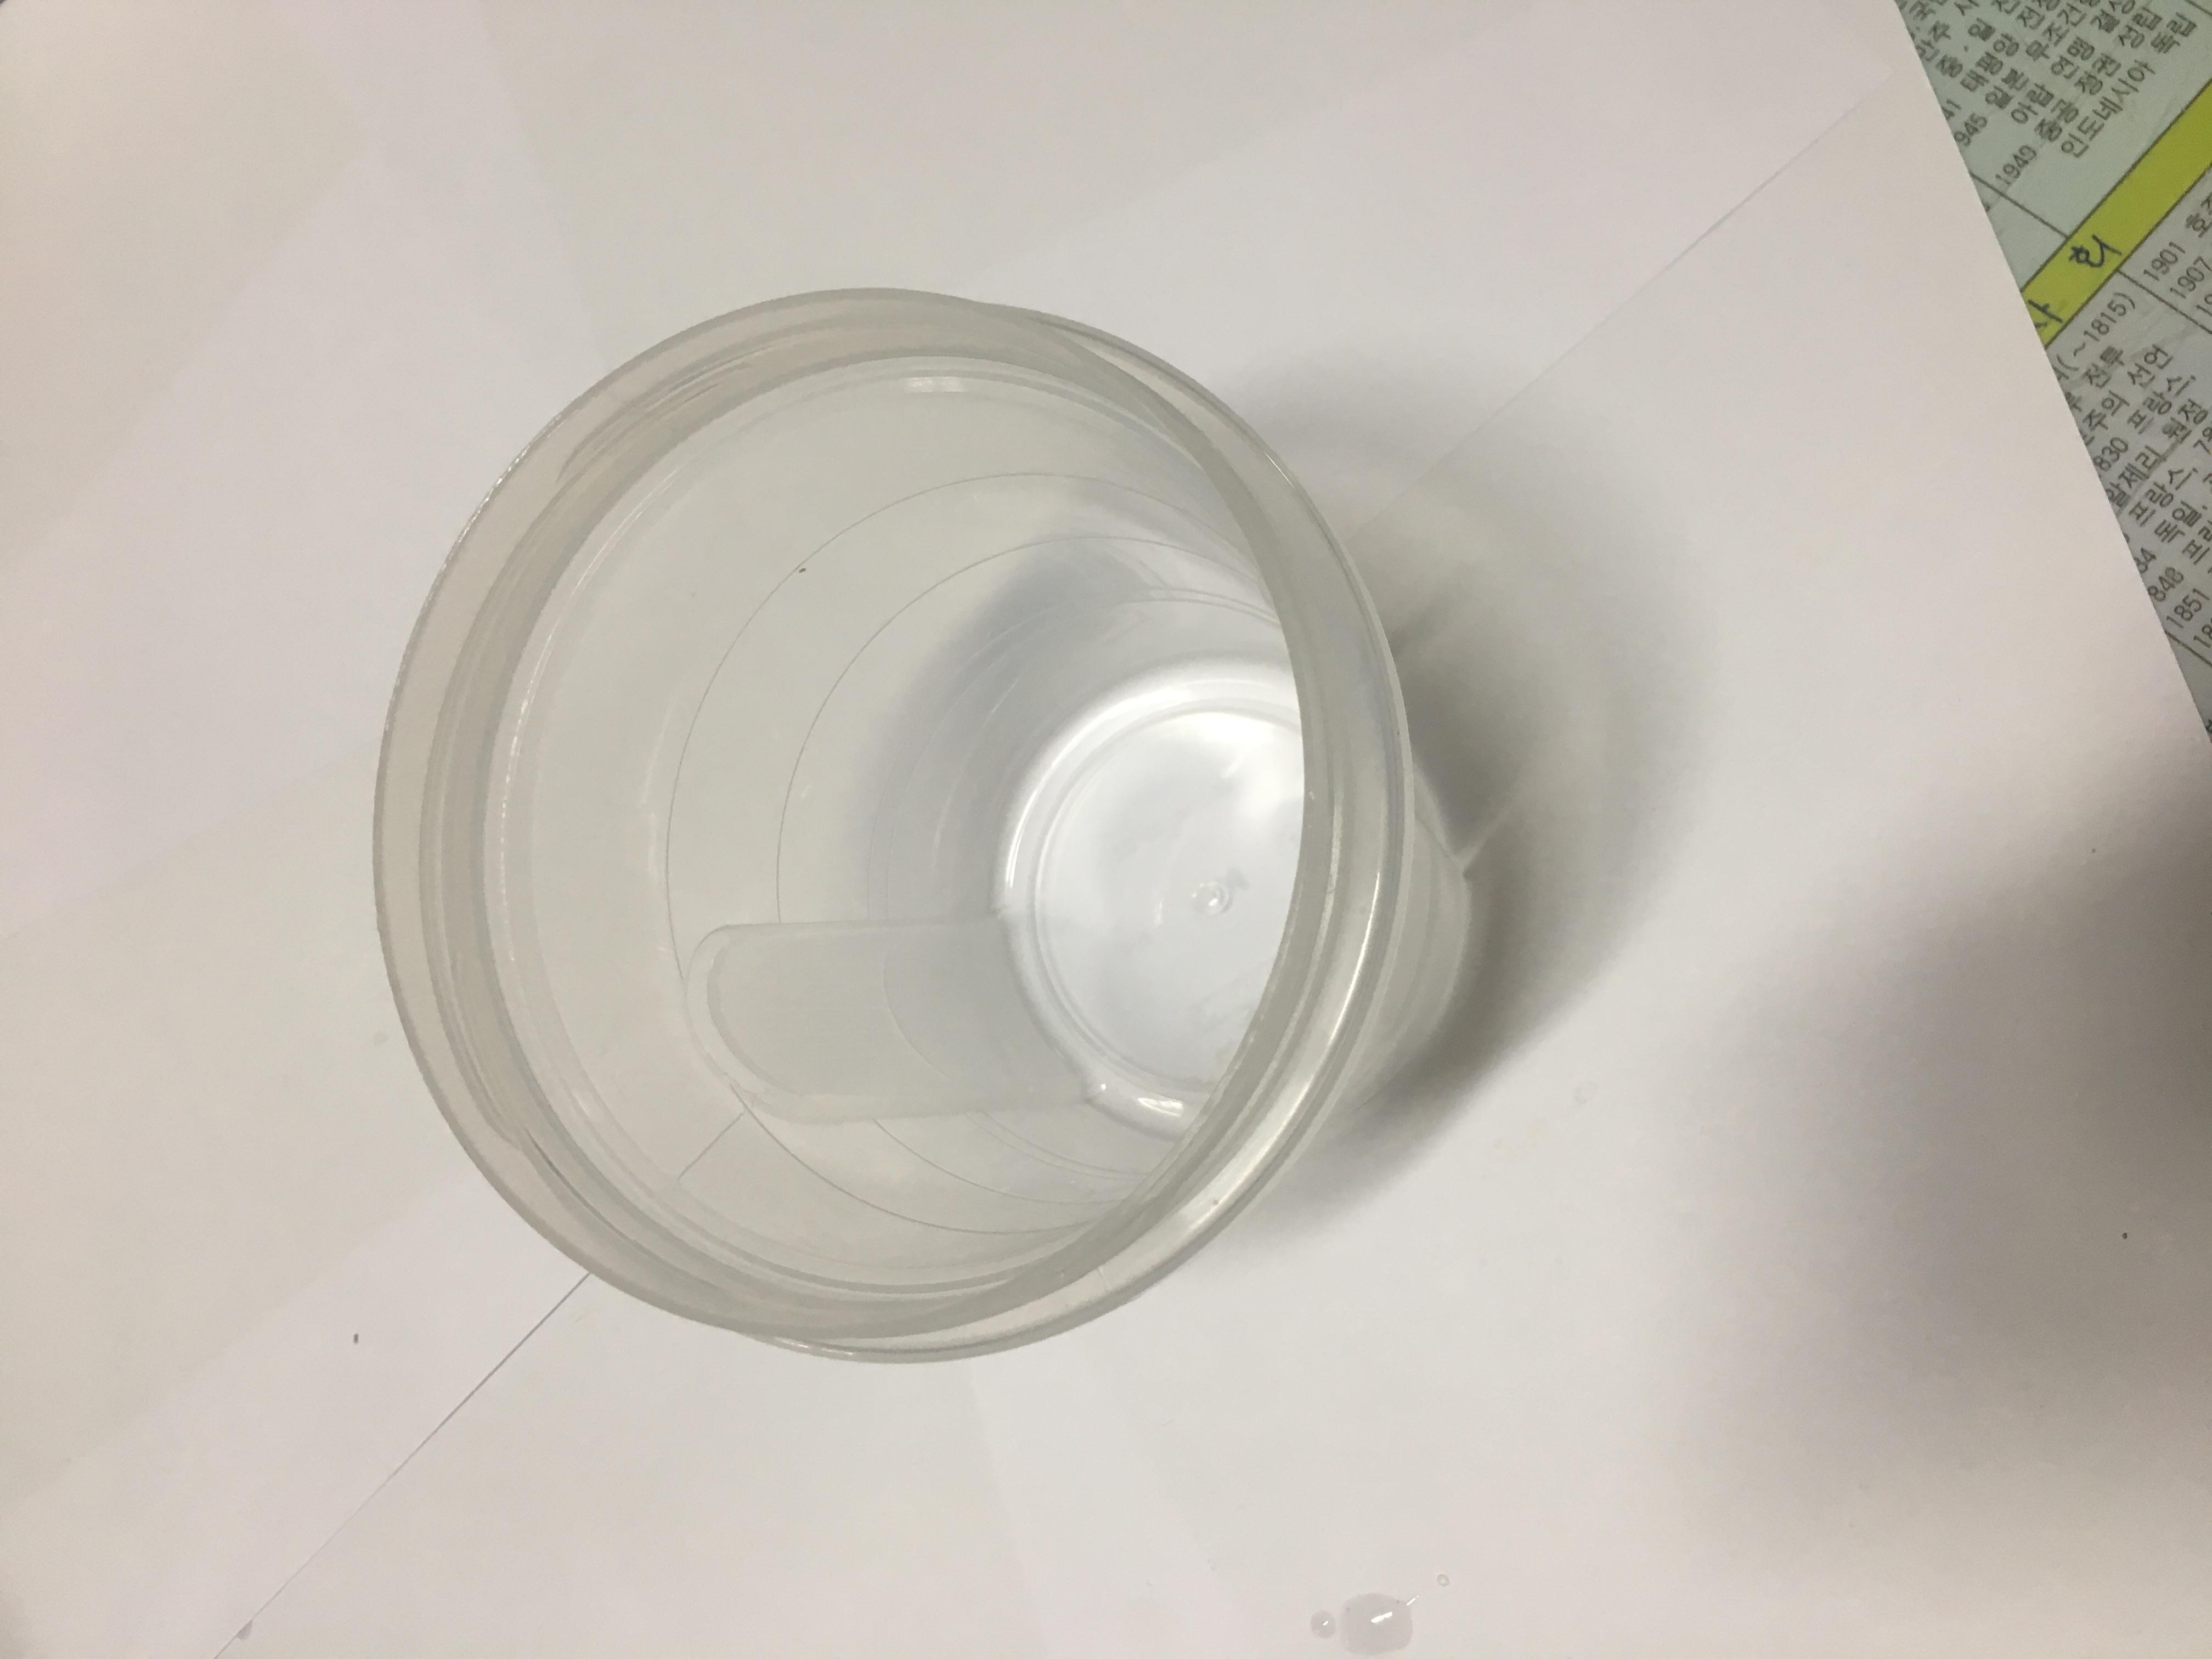bottle: (467, 247, 1810, 1155)
